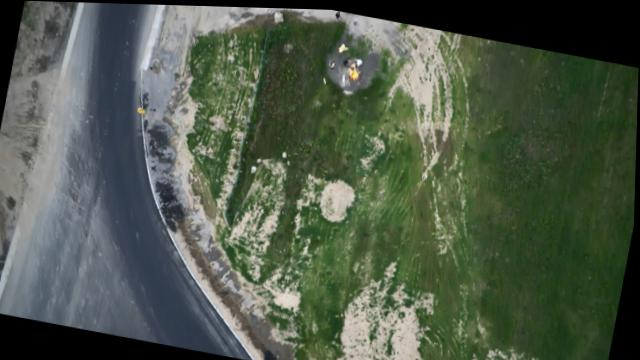fire: (333, 40, 381, 86)
